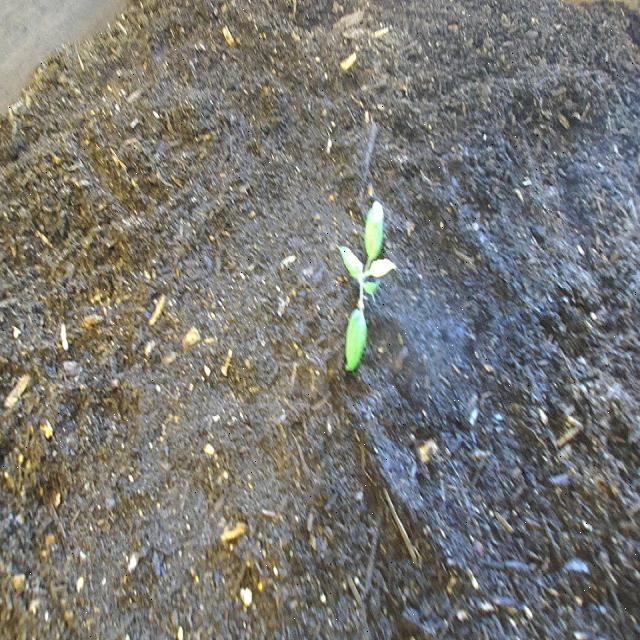Healthy: (331, 192, 401, 382)
